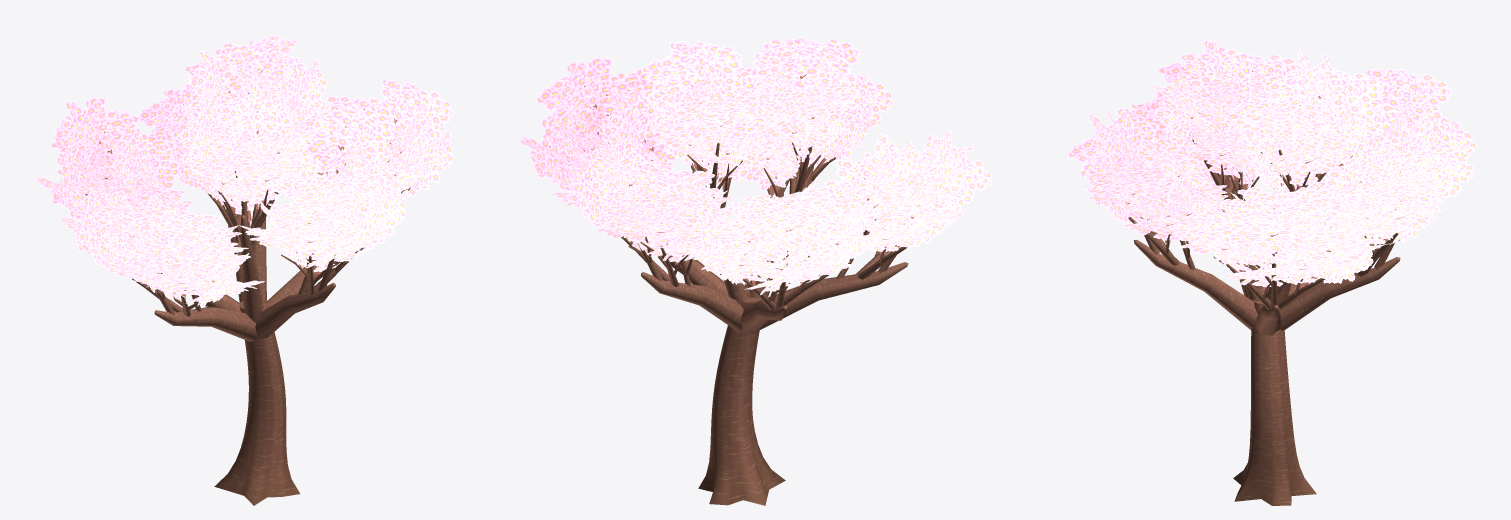
The model's file is pink-tree-ioiwFkC0.glb.
3 renders of one model, left to right at view 1: azimuth 30°, elevation 25°; view 2: azimuth 150°, elevation 25°; view 3: azimuth 270°, elevation 25°, orthographic. The views are drawn at different scales.
Parts seen in each view (by area): view 1: canopy-foliage, SakuraBark; view 2: canopy-foliage, SakuraBark; view 3: canopy-foliage, SakuraBark.
Boxes of the visible parts, x1,y1,x2,y2 form: canopy-foliage: (35,34,453,308); SakuraBark: (132,171,410,505); canopy-foliage: (520,37,991,297); SakuraBark: (621,142,911,505); canopy-foliage: (1067,40,1477,293); SakuraBark: (1128,133,1400,505).
Bounding box in the file's own units: 5.4 × 5.55 × 5.
2 materials, 2 textured.
